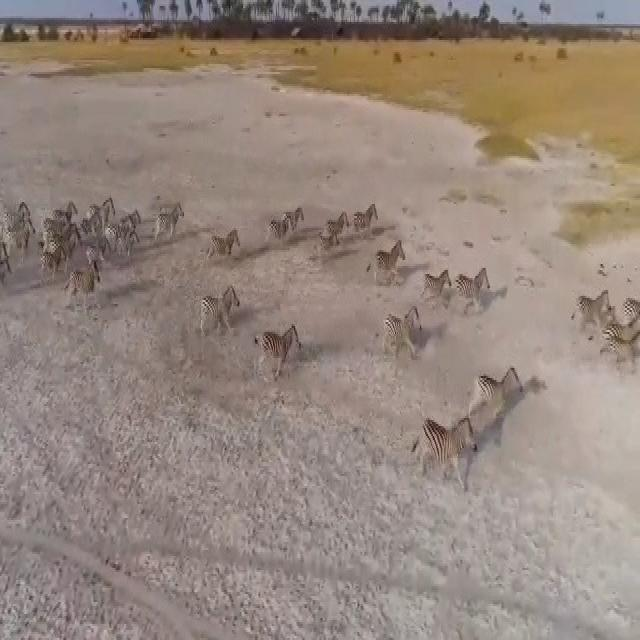Zebra: (417, 409, 479, 489), (258, 329, 307, 404), (473, 359, 525, 424), (379, 304, 424, 362), (367, 230, 407, 293), (609, 294, 639, 370), (199, 293, 238, 342), (64, 256, 106, 300), (316, 217, 362, 256), (152, 200, 185, 253), (457, 270, 499, 304), (579, 293, 608, 341), (86, 190, 112, 236), (99, 238, 141, 264), (42, 220, 82, 247), (105, 213, 142, 242), (265, 216, 292, 254), (4, 217, 39, 246), (210, 232, 243, 261), (420, 269, 450, 297), (287, 202, 307, 242), (0, 255, 16, 279)
